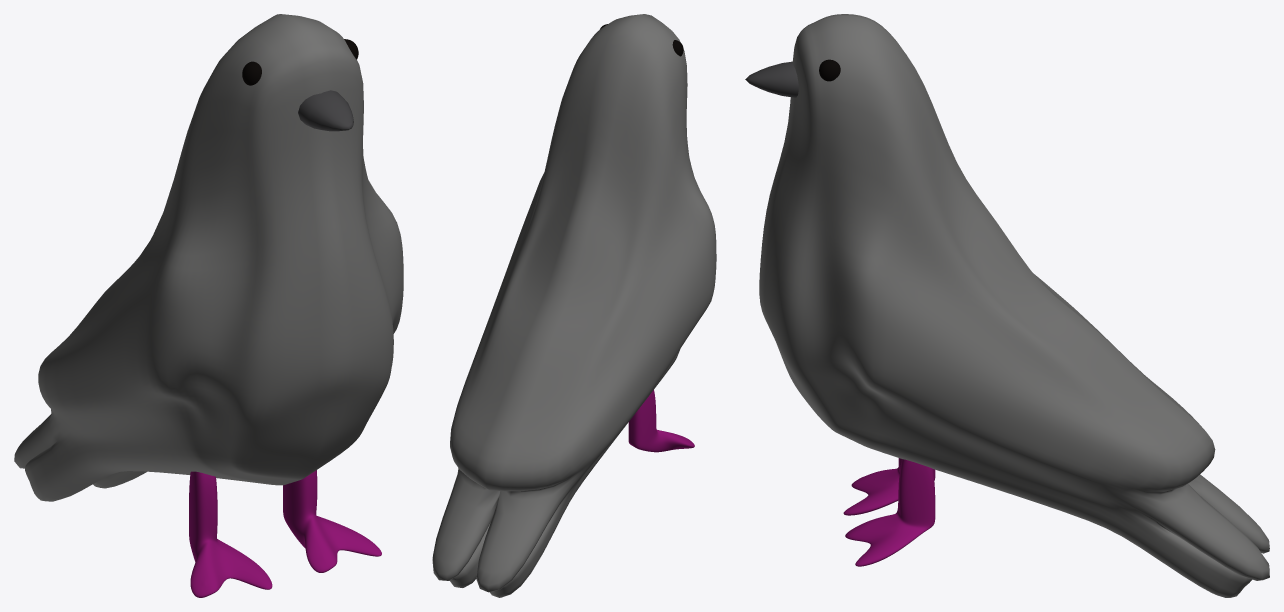
The model's file is golub.fbx.
The picture shows the model from 3 angles, left to right: view 1: azimuth 30°, elevation 25°; view 2: azimuth 150°, elevation 25°; view 3: azimuth 270°, elevation 25°; orthographic projection. The views are drawn at different scales.
Visible parts, largest first — view 1: тело, нога 2, нога, клюв, глаза; view 2: тело, нога 2; view 3: тело, нога, нога 2, клюв.
Part boxes in pixels (<box>): тело: <box>14,14,403,501</box>; нога 2: <box>189,471,272,597</box>; нога: <box>283,470,381,572</box>; клюв: <box>298,90,353,131</box>; глаза: <box>242,39,358,85</box>; тело: <box>432,14,716,597</box>; нога 2: <box>628,390,694,452</box>; тело: <box>759,14,1269,597</box>; нога: <box>845,459,935,566</box>; нога 2: <box>843,458,935,515</box>; клюв: <box>745,61,798,97</box>.
Size of the model in its own units: 127 by 306 by 256.
